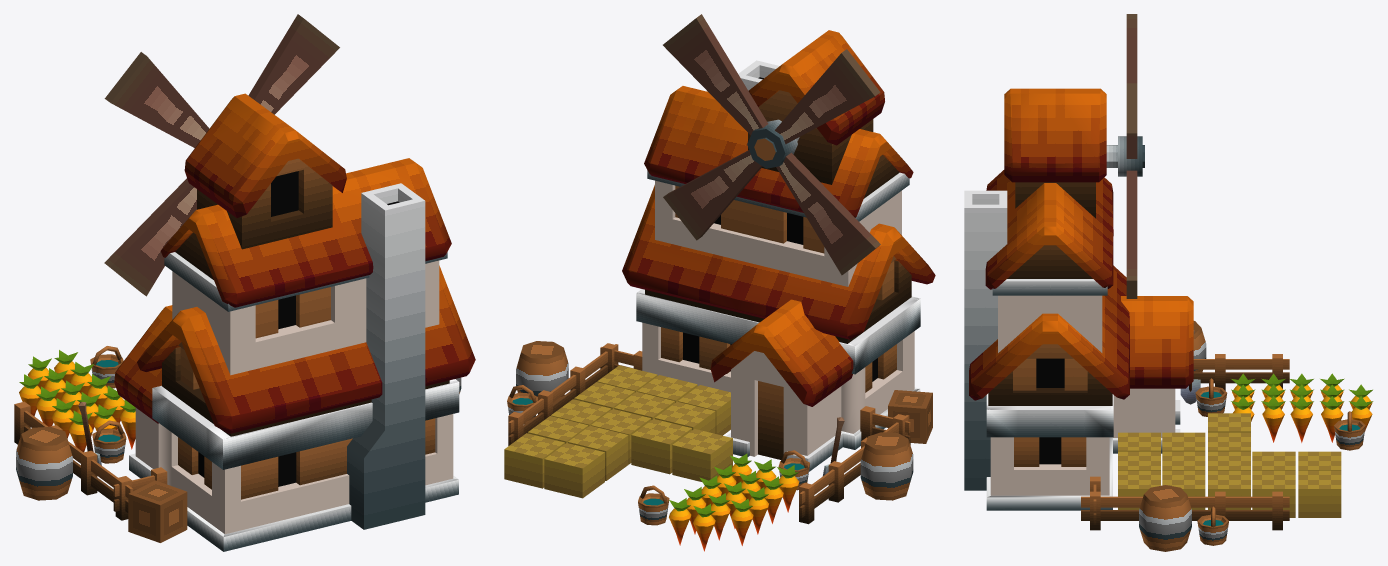
The model's file is farm_lvl7.fbx.
The picture shows the model from 3 angles, left to right: view 1: azimuth 30°, elevation 25°; view 2: azimuth 150°, elevation 25°; view 3: azimuth 270°, elevation 25°; orthographic projection. The views are drawn at different scales.
Visible parts, largest first — view 1: farm_lvl7; view 2: farm_lvl7; view 3: farm_lvl7.
Part boxes in pixels (x1=…): farm_lvl7: x1=14, y1=14, x2=475, y2=551; farm_lvl7: x1=504, y1=14, x2=935, y2=551; farm_lvl7: x1=964, y1=14, x2=1373, y2=551.
Bounding box in the file's own units: 2080 × 2090 × 1903.
